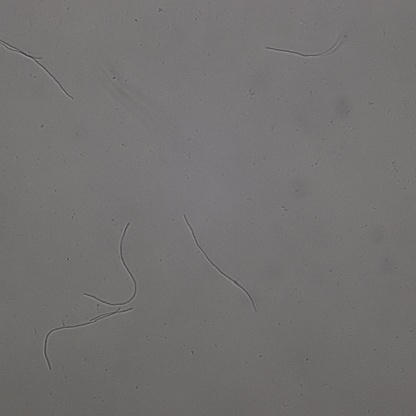Sensitive: (183, 215, 256, 311), (42, 309, 133, 369), (85, 222, 137, 306), (1, 39, 72, 99), (265, 36, 343, 58)
